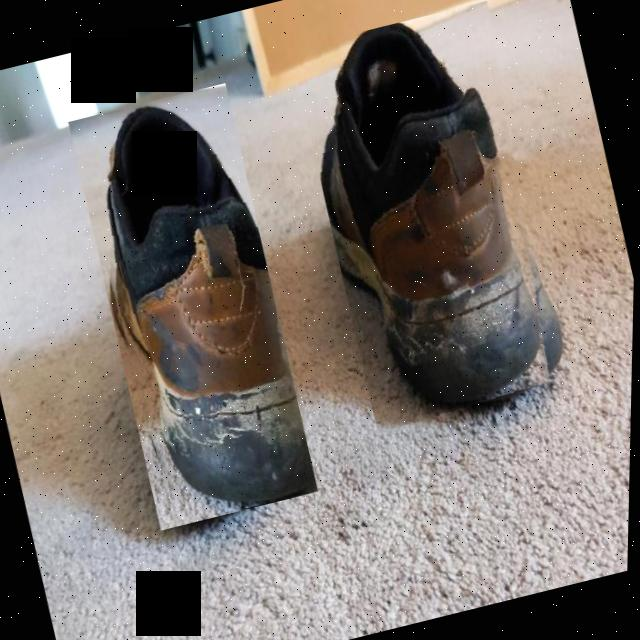shoe: (284, 0, 584, 434), (61, 82, 327, 530)
